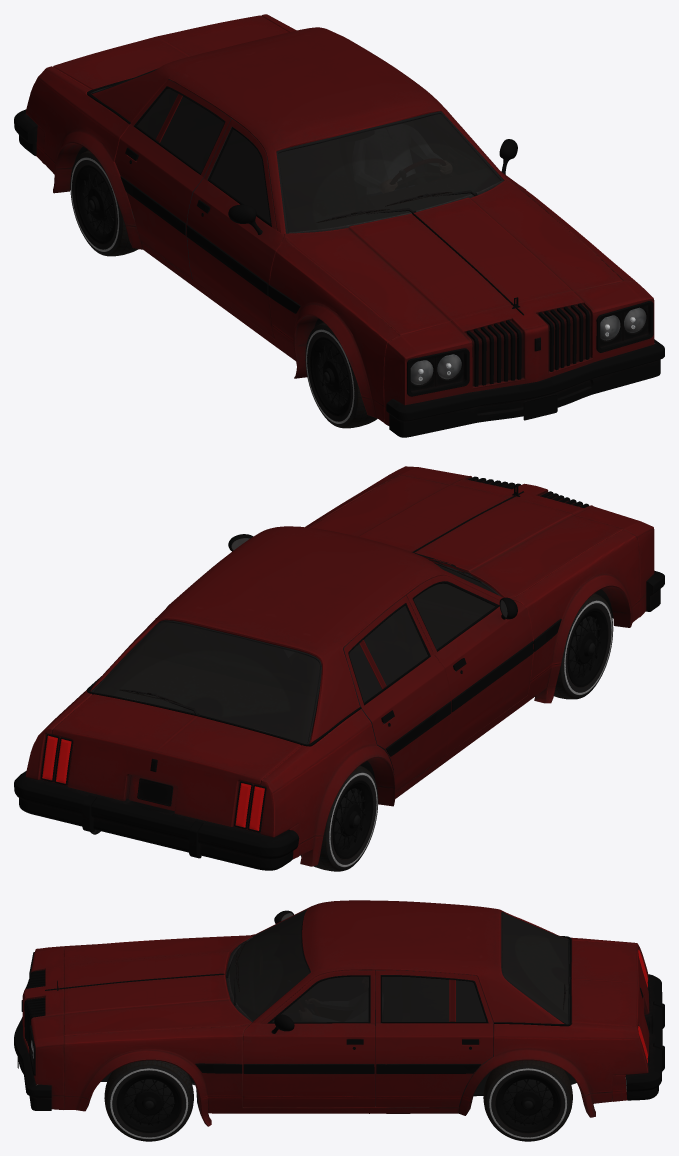
The model's file is car.glb.
3 views of the same model, one above another, from view 1: azimuth 30°, elevation 25°; view 2: azimuth 150°, elevation 25°; view 3: azimuth 270°, elevation 25° (orthographic). The views are drawn at different scales.
Visible parts, largest first — view 1: part_a.14, glass_front.37, door_right_frnt.32, door_right_bck.29, glass_right_b.30, glass_right_f.34, wheel_fr.6, wheel_rr.8, tire_rr2.10, part_b.13, tire_rr1.9, light.47 (+1 smaller); view 2: part_a.14, glass_back.36, door_right_frnt.32, door_right_bck.29, glass_right_b.30, part_b.13, glass_right_f.34, wheel_fr.6, wheel_rr.8, tire_rr1.9, back_light.44, tire_rr2.10 (+1 smaller); view 3: part_a.14, door_left_frnt.24, door_left_bck.21, glass_front.37, glass_back.36, glass_left_b.22, glass_left_f.26, wheel_rl.5, wheel_fl.7, tire_rr.4, tire_rr3.11, part_b.13 (+2 smaller).
Boxes of the visible parts, <box> form: part_a.14: <box>14,14,664,437</box>; glass_front.37: <box>278,114,500,232</box>; door_right_frnt.32: <box>186,119,284,338</box>; door_right_bck.29: <box>114,79,232,278</box>; glass_right_b.30: <box>137,88,224,172</box>; glass_right_f.34: <box>210,129,270,223</box>; wheel_fr.6: <box>310,337,351,415</box>; wheel_rr.8: <box>75,165,115,243</box>; tire_rr2.10: <box>305,322,377,428</box>; part_b.13: <box>87,78,518,305</box>; tire_rr1.9: <box>70,150,138,256</box>; light.47: <box>411,308,645,384</box>; part_a.14: <box>14,466,664,870</box>; glass_back.36: <box>94,622,319,743</box>; door_right_frnt.32: <box>406,575,533,754</box>; door_right_bck.29: <box>343,595,451,791</box>; glass_right_b.30: <box>349,605,427,702</box>; part_b.13: <box>40,485,518,833</box>; glass_right_f.34: <box>413,583,494,649</box>; wheel_fr.6: <box>567,608,608,686</box>; wheel_rr.8: <box>332,780,373,858</box>; tire_rr1.9: <box>300,765,378,871</box>; back_light.44: <box>42,735,264,830</box>; tire_rr2.10: <box>554,593,613,699</box>; part_a.14: <box>14,900,664,1126</box>; door_left_frnt.24: <box>243,970,375,1107</box>; door_left_bck.21: <box>375,970,493,1107</box>; glass_front.37: <box>229,911,309,1020</box>; glass_back.36: <box>502,913,568,1023</box>; glass_left_b.22: <box>375,975,486,1021</box>; glass_left_f.26: <box>272,976,368,1022</box>; wheel_rl.5: <box>495,1074,560,1132</box>; wheel_fl.7: <box>116,1074,181,1132</box>; tire_rr.4: <box>483,1060,572,1141</box>; tire_rr3.11: <box>104,1060,193,1141</box>; part_b.13: <box>18,909,646,1060</box>.
Size of the model in its own units: 8.76 by 6.01 by 21.34.
35 materials, 35 textured.
